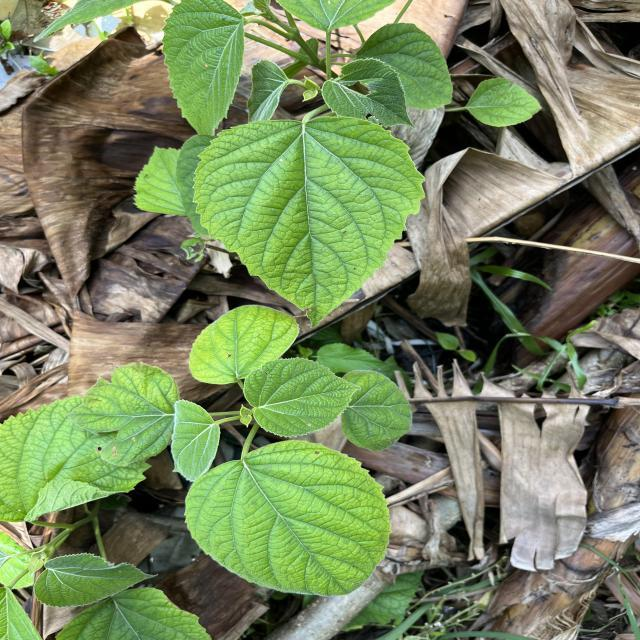Clerodendrum infortunatum: (190, 114, 430, 331), (182, 439, 393, 598), (159, 0, 247, 139), (243, 356, 362, 439), (188, 302, 302, 388), (320, 56, 420, 130), (341, 370, 414, 452), (171, 398, 221, 483)
